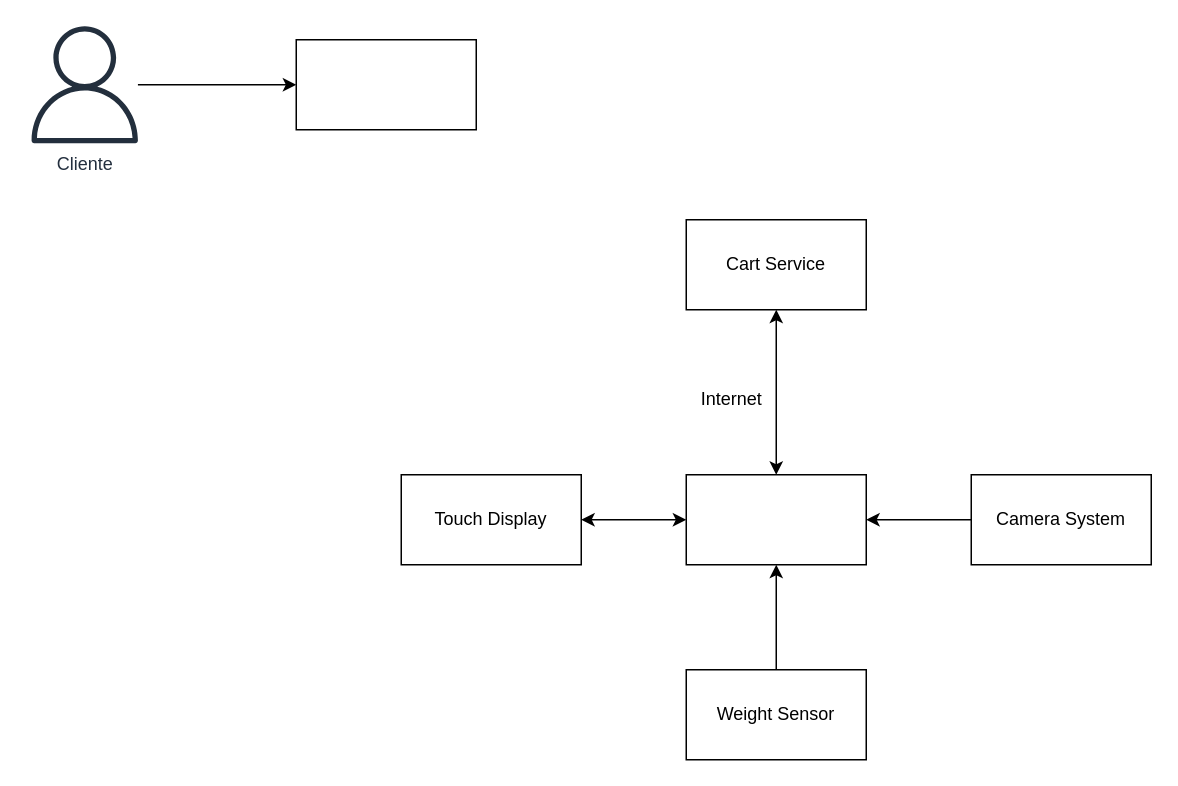
Image size: 1178x786. Some labels were removed from this diagram. The shapes that lost their labels are listed below. From the top down, each one's centre as x and y in pixels, then its label:
pixel 385 84: Carrinho
pixel 775 519: Single Board Computer
